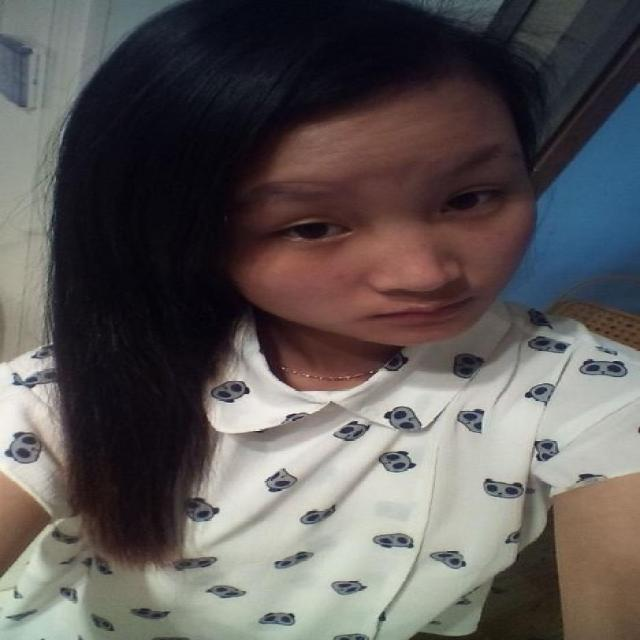short sleeve top: (7, 302, 635, 639)
